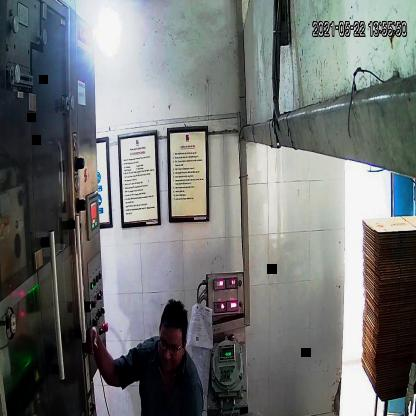goggles: (155, 332, 186, 360)
